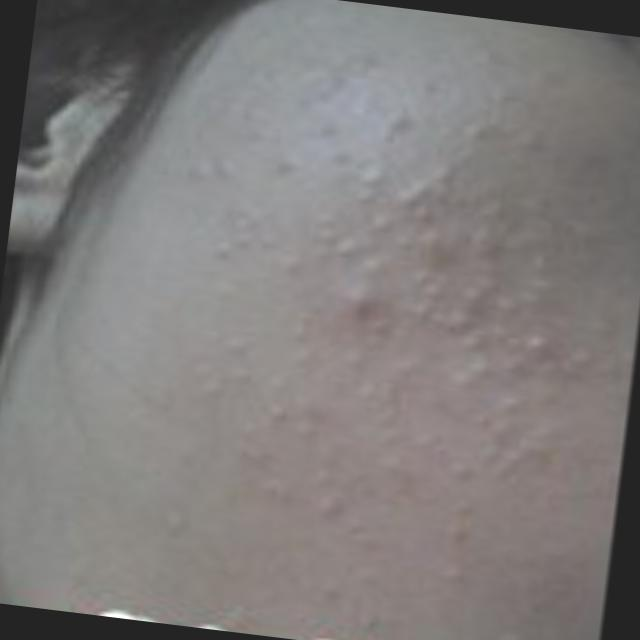fungal: (142, 42, 640, 609)
